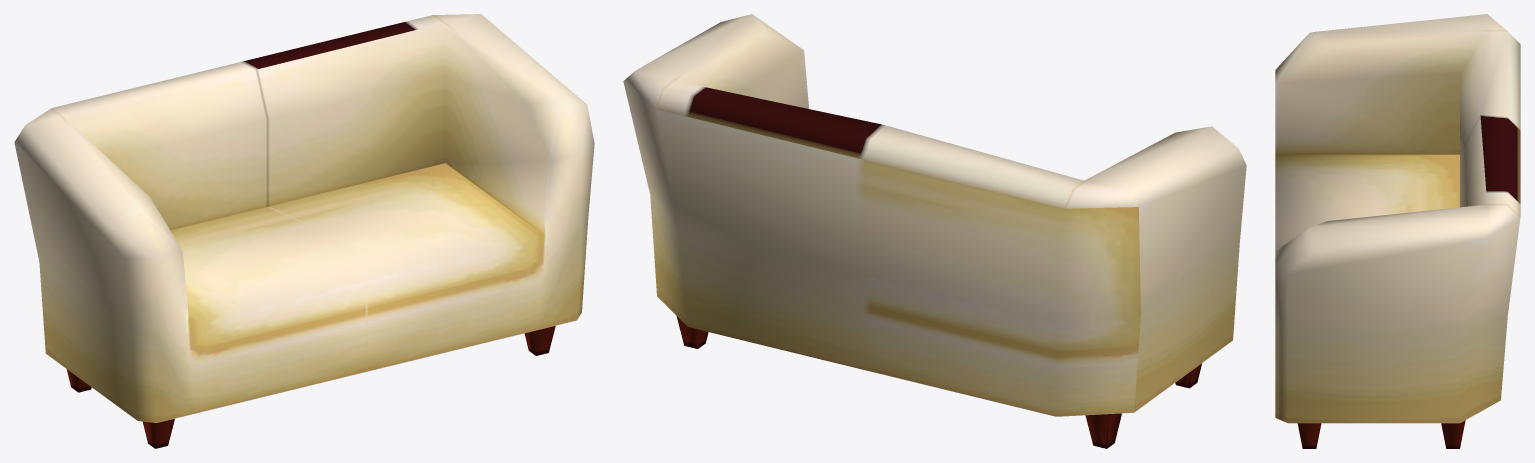
File: int_oth_WchairL.dae
3 views of the same model, side by side, from view 1: azimuth 30°, elevation 25°; view 2: azimuth 150°, elevation 25°; view 3: azimuth 270°, elevation 25° (orthographic). The views are drawn at different scales.
Visible parts, largest first — view 1: int_oth_WchairL; view 2: int_oth_WchairL; view 3: int_oth_WchairL.
Part boxes in pixels (x1,y1,x2,y2): int_oth_WchairL: [14, 14, 594, 448]; int_oth_WchairL: [623, 14, 1246, 448]; int_oth_WchairL: [1275, 14, 1520, 448].
Bounding box in the file's own units: 60.8 × 31.54 × 28.7.
Materials: 1 (1 with a texture image).
